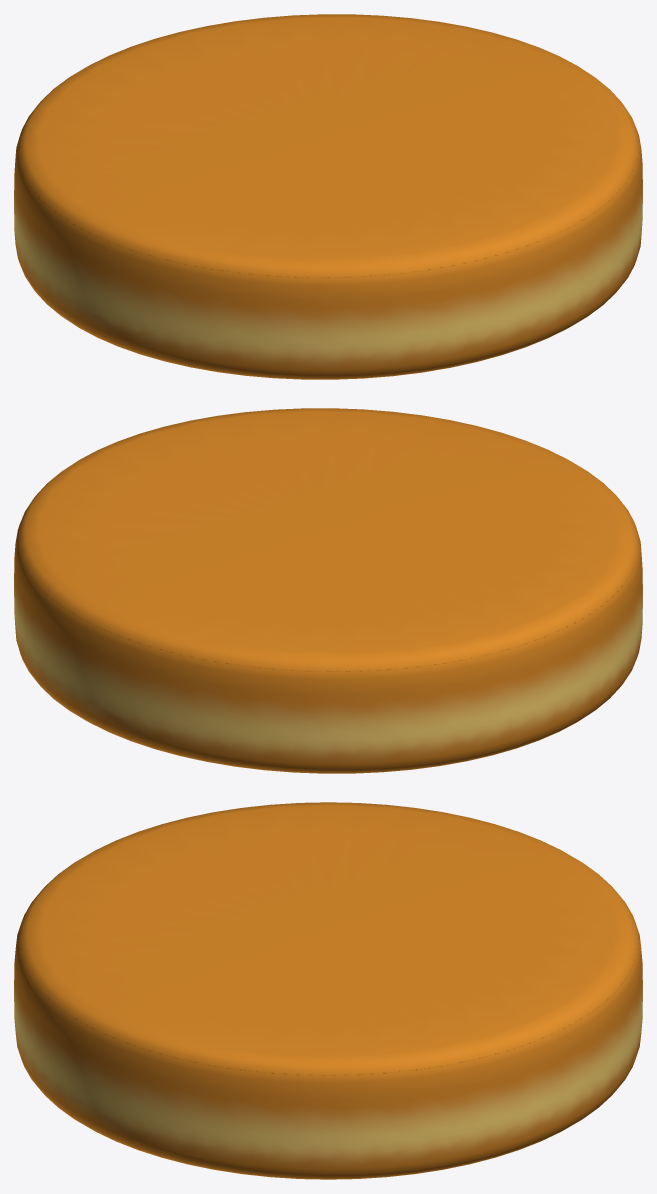
Rendered from Hotcake.obj.
3 views of the same model, one above another, from view 1: azimuth 30°, elevation 25°; view 2: azimuth 150°, elevation 25°; view 3: azimuth 270°, elevation 25° (orthographic).
Parts seen in each view (by area): view 1: HotCake; view 2: HotCake; view 3: HotCake.
Part boxes in pixels (box(x1,y1,x2,y2)): HotCake: box(14, 14, 642, 379); HotCake: box(14, 408, 642, 773); HotCake: box(14, 802, 642, 1179).
Size of the model in its own units: 4.58 by 0.9653 by 4.48.
